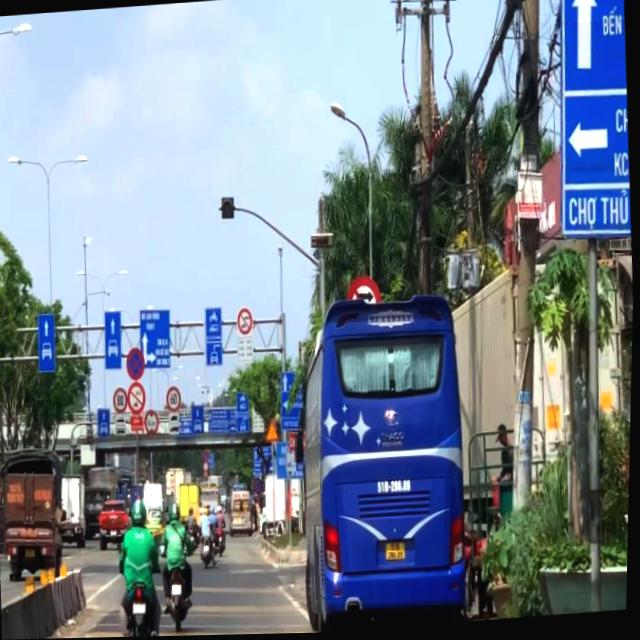Cam dung xe va do xe: (126, 348, 148, 382), (256, 479, 266, 495), (204, 452, 211, 462)
Cam re phai: (346, 277, 385, 342)
Chieu cao an toan: (267, 419, 282, 443)
Han che chieu cao: (146, 410, 162, 437)
Toc do toi da cho phep: (167, 387, 184, 414), (114, 387, 130, 414)
